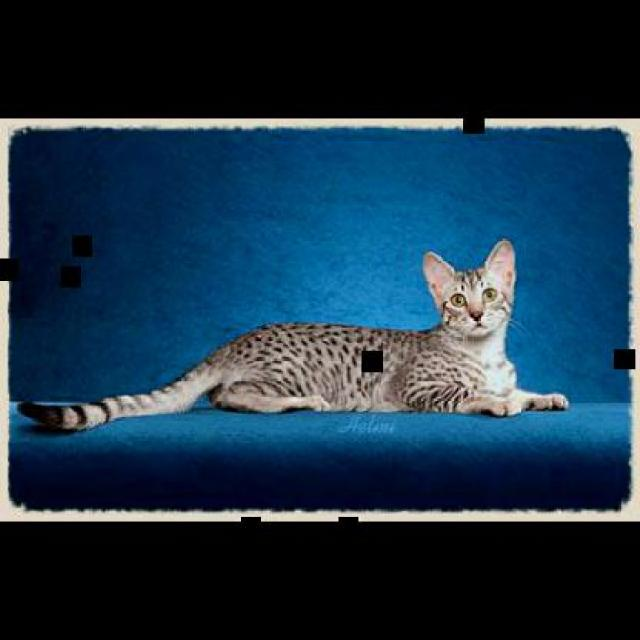unauthorized: (15, 237, 568, 432)
